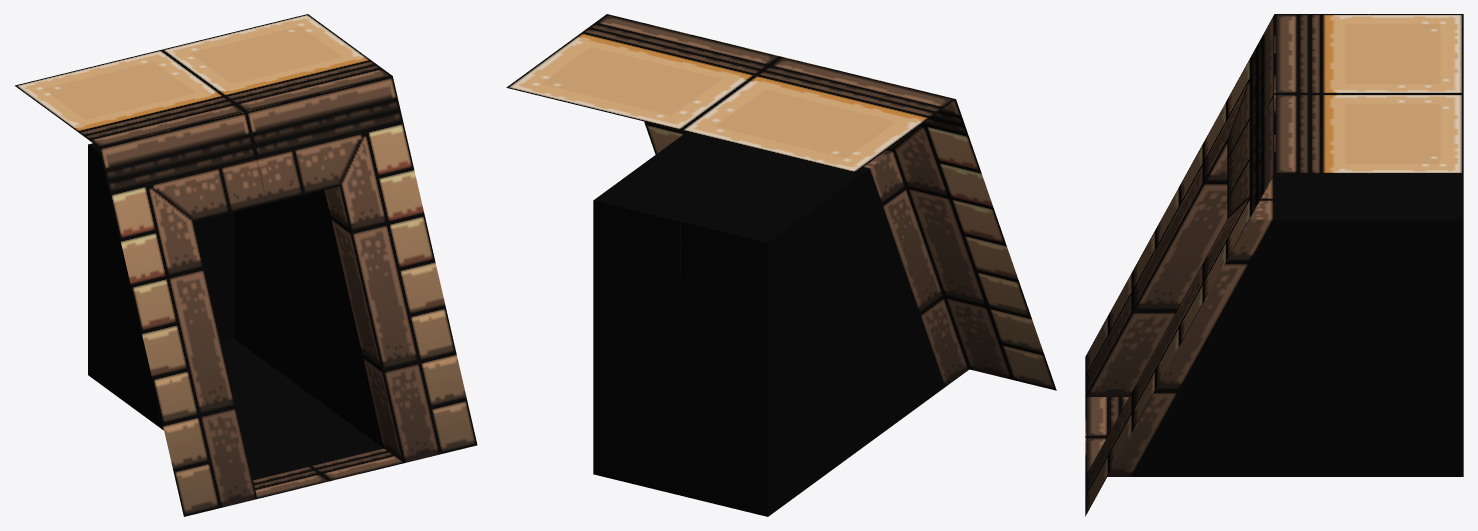
Rendered from wall_door.FBX.
3 views of the same model, side by side, from view 1: azimuth 30°, elevation 25°; view 2: azimuth 150°, elevation 25°; view 3: azimuth 270°, elevation 25° (orthographic). The views are drawn at different scales.
Visible parts, largest first — view 1: wall_door; view 2: wall_door; view 3: wall_door.
Boxes of the visible parts, bbox=[...] form: wall_door: bbox=[15, 14, 477, 516]; wall_door: bbox=[506, 14, 1056, 516]; wall_door: bbox=[1085, 14, 1463, 516].
Size of the model in its own units: 4 by 4 by 4.
Materials: 1 (1 with a texture image).
